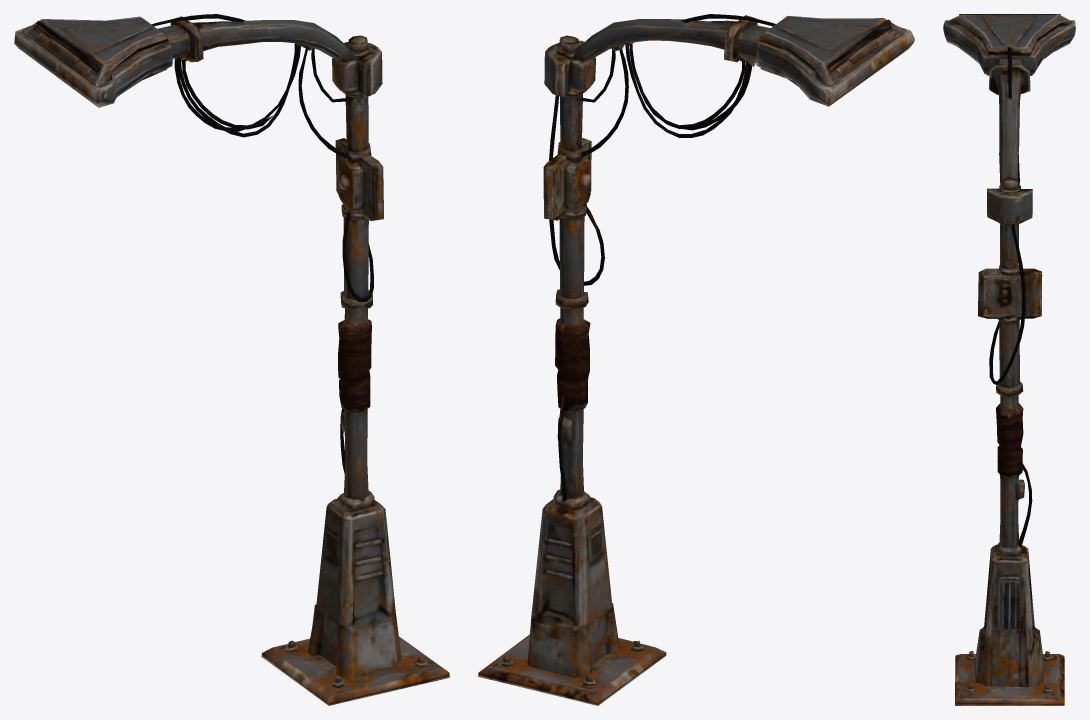
Rendered from street_lamp.glb.
3 renders of one model, left to right at view 1: azimuth 30°, elevation 25°; view 2: azimuth 150°, elevation 25°; view 3: azimuth 270°, elevation 25°, orthographic. The views are drawn at different scales.
Parts seen in each view (by area): view 1: geometry_0; view 2: geometry_0; view 3: geometry_0.
Boxes of the visible parts, x1,y1,x2,y2 form: geometry_0: [14, 14, 449, 705]; geometry_0: [478, 14, 914, 705]; geometry_0: [943, 14, 1075, 705].
Bounding box in the file's own units: 0.5436 × 1 × 0.2154.
1 material, 1 textured.
